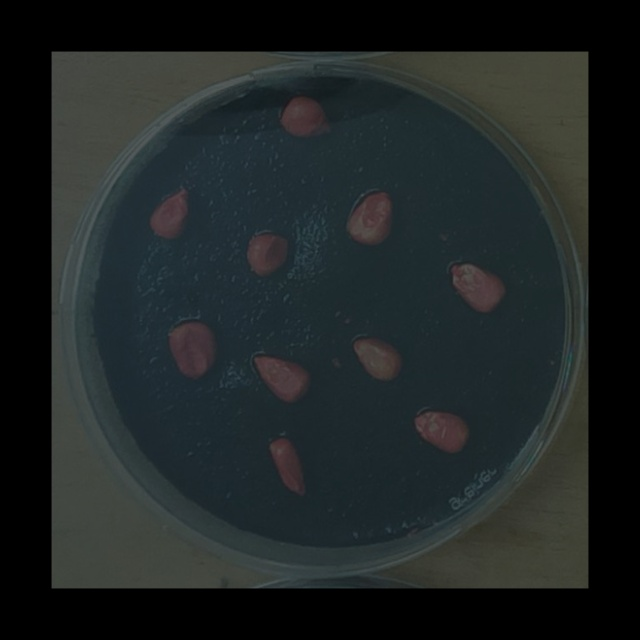Zea mays: (163, 314, 224, 387), (247, 348, 316, 411), (443, 257, 511, 320), (259, 430, 314, 507), (407, 403, 474, 461), (341, 185, 398, 252), (343, 331, 408, 388), (273, 90, 339, 146), (145, 181, 195, 247), (241, 224, 295, 283)
